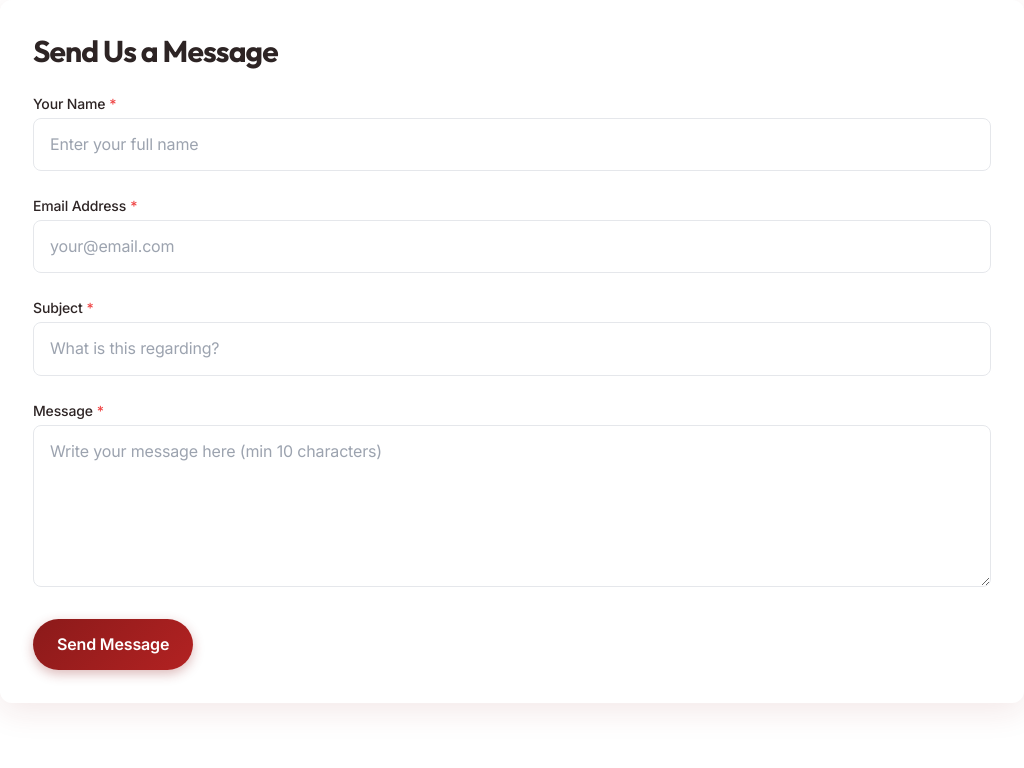
Test case: ContactForm › Form submission validation › shows success state on valid submission
In the field labelled "Your Name*": (512, 145) [33,118,991,171], type "John Doe"
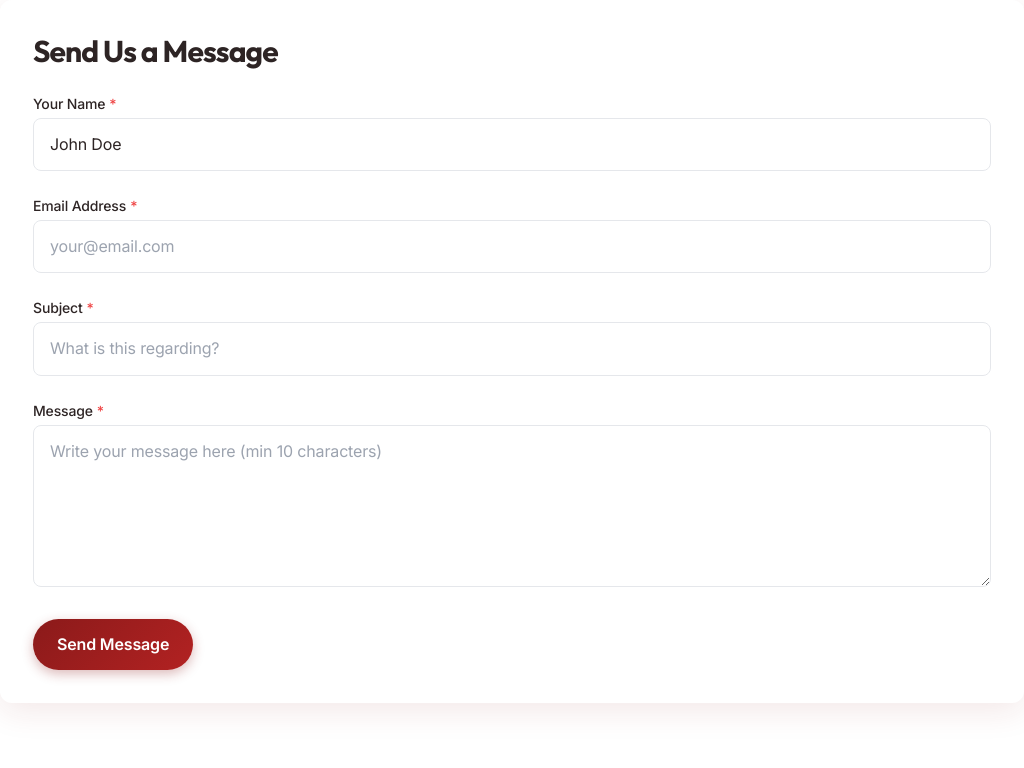
In the field labelled "Email Address*": (512, 247) [33,220,991,273], type "john@example.com"
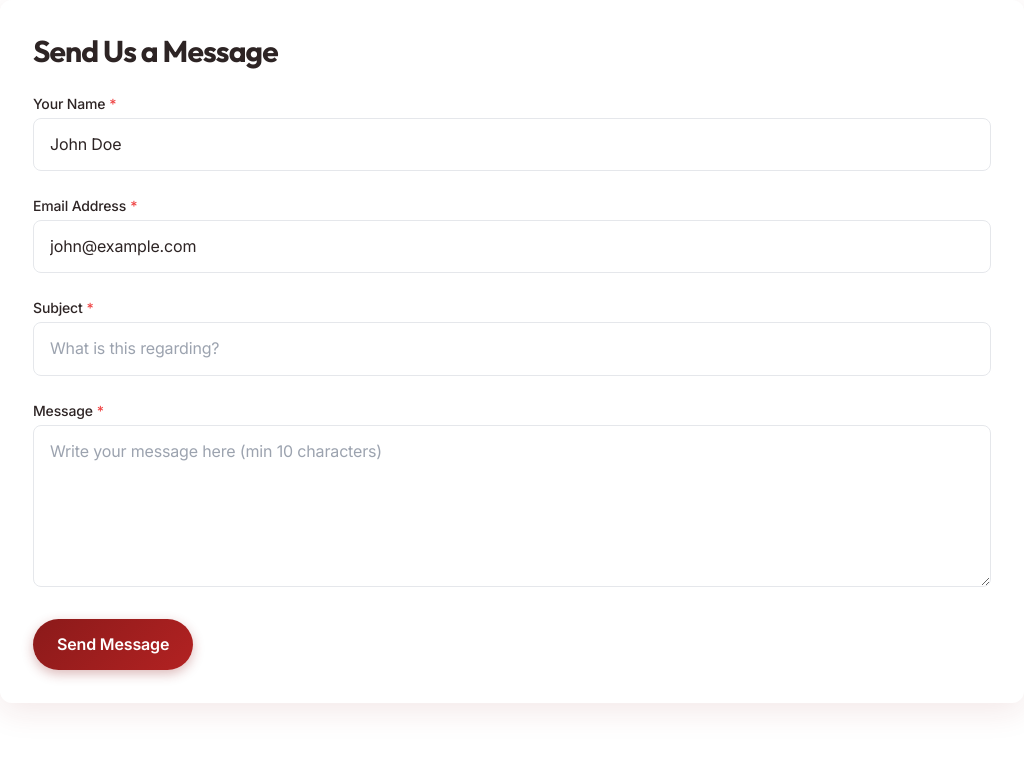
In the field labelled "Subject*": (512, 349) [33,322,991,376], type "General Inquiry"
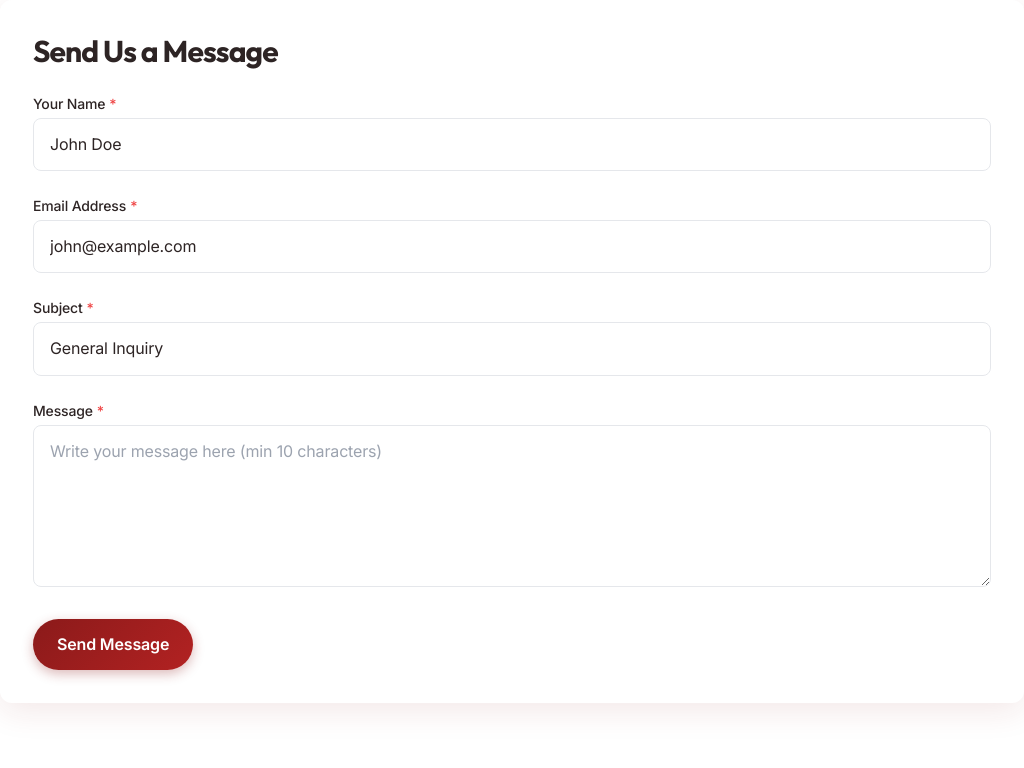
In the text box labelled "Message*": (512, 506) [33,425,991,586], type "I would like to know more about your services."
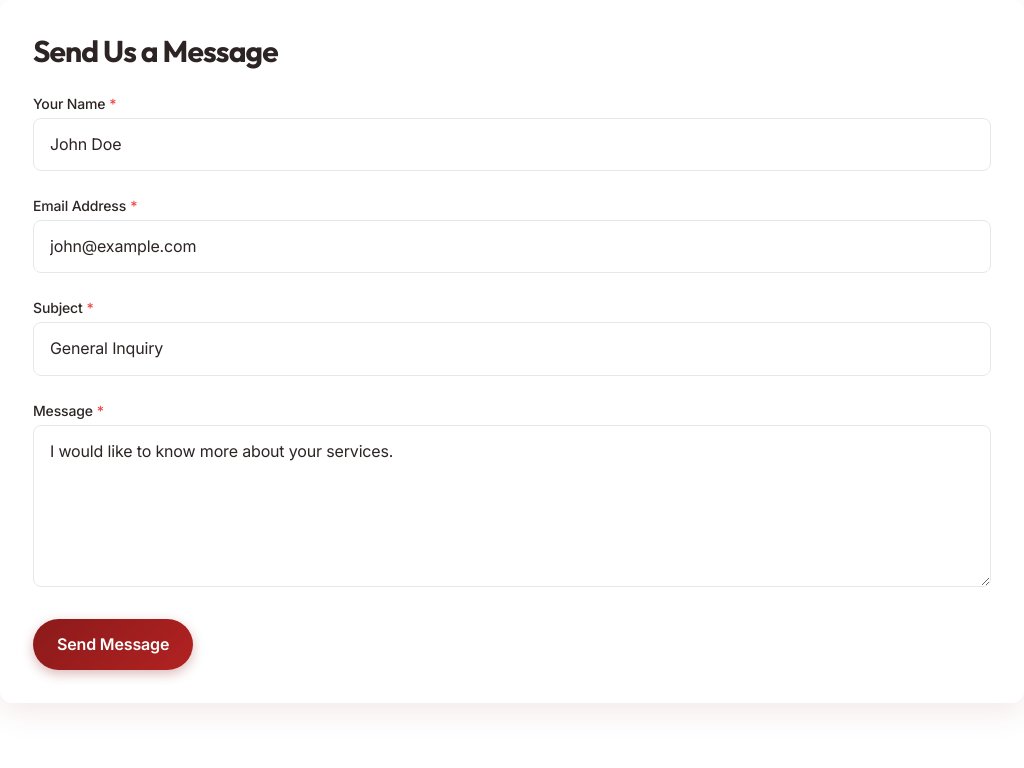
Click the button "Send Message": (113, 644) [33,618,193,670]
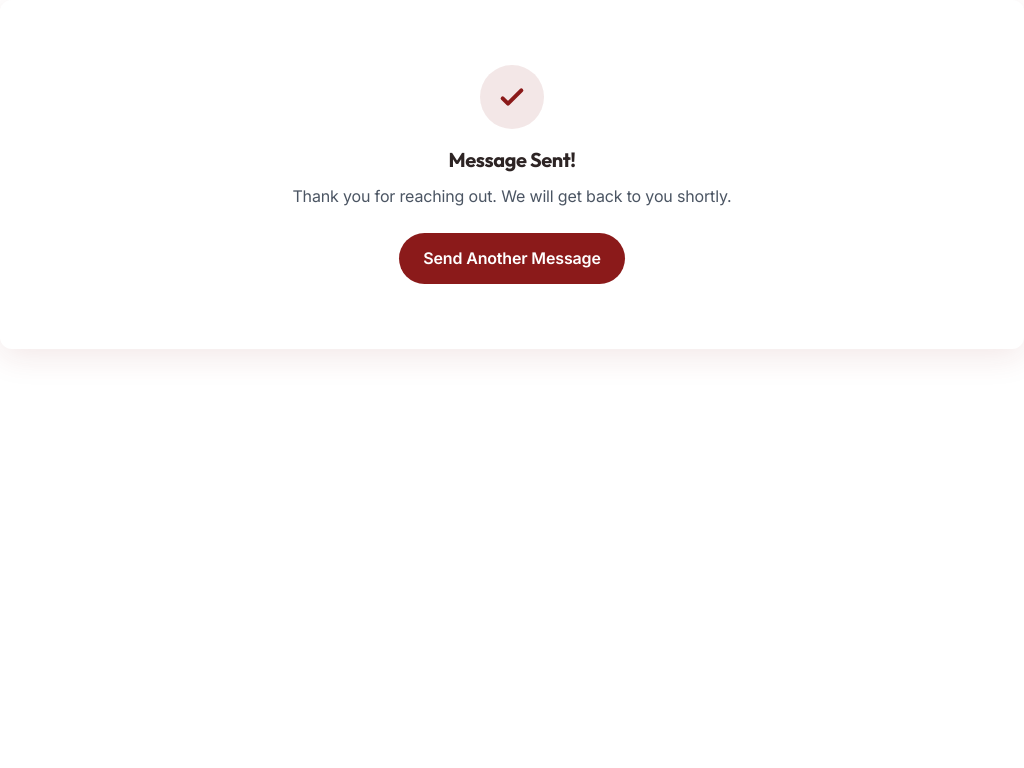
Result: the heading "Message Sent!" is shown at [448,147,576,172]
